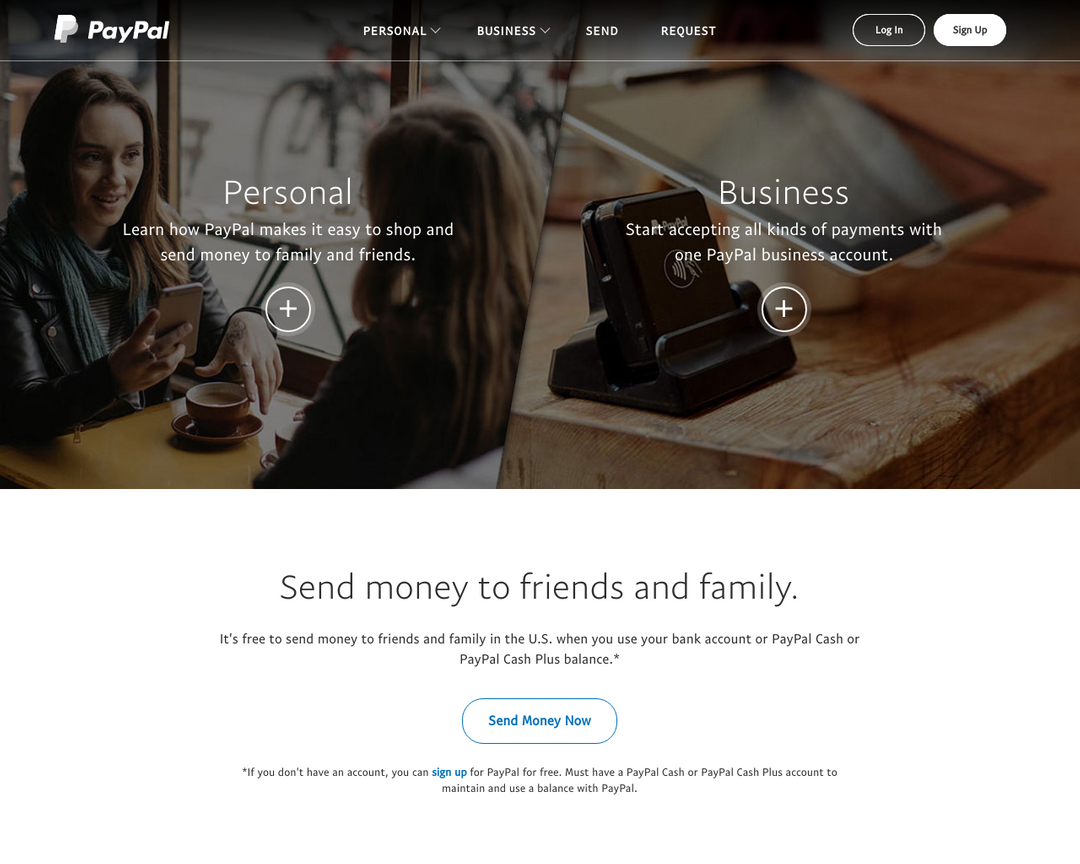Paypal: (19, 537, 64, 583)
